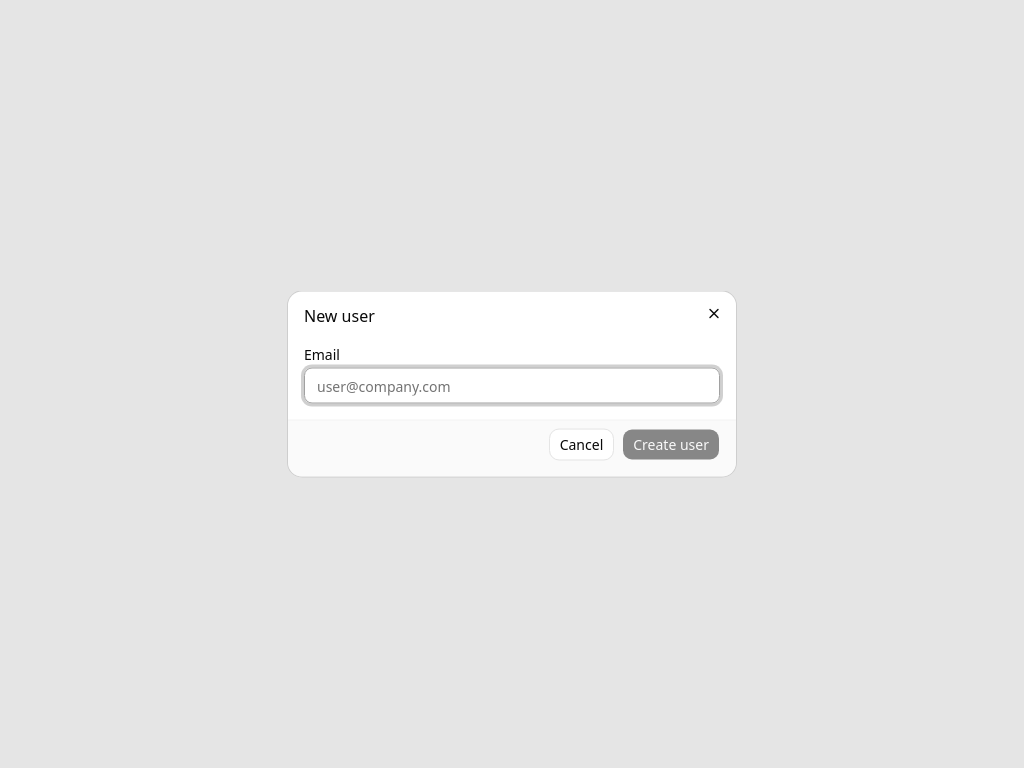
Scenario: CreateUserDialog — submit › shows the invitation dialog after successful creation
Check: the heading "New user" is shown, box [304,304,375,326]
Type "invited@company.com" into the field with placeholder "user@company.com" at coordinates (512, 386), box [304,368,720,404]
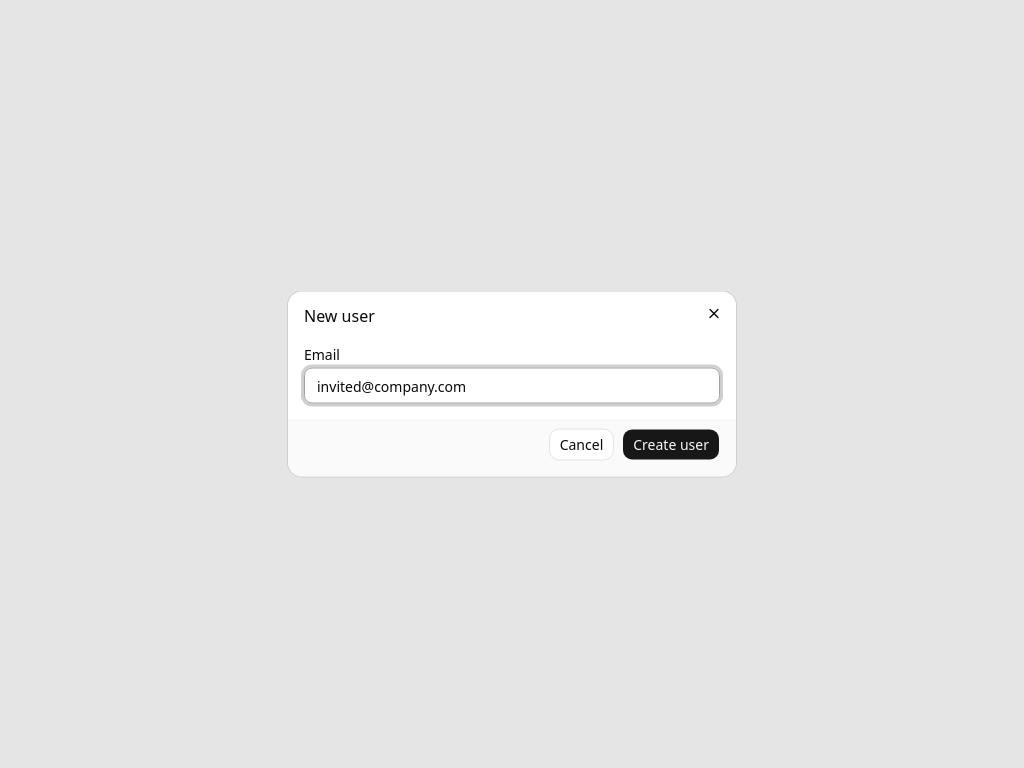
Click the button "Create user" at coordinates (671, 444), box [622,428,720,460]
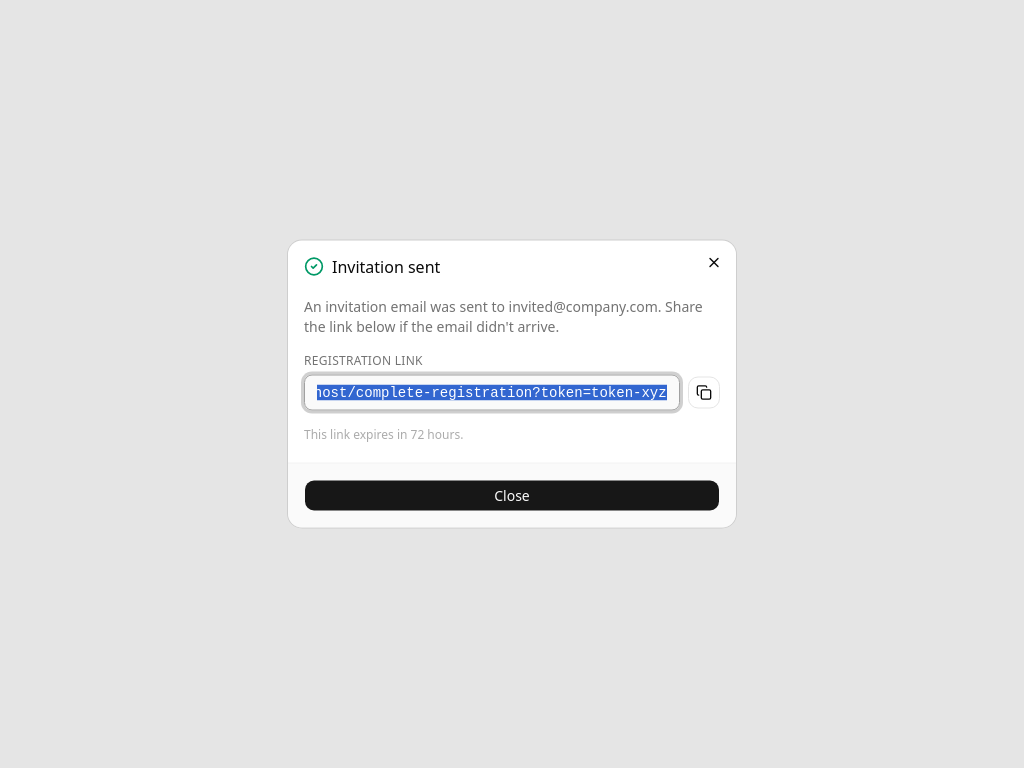
Check: the heading "Invitation sent" is shown, box [304,256,440,278]
